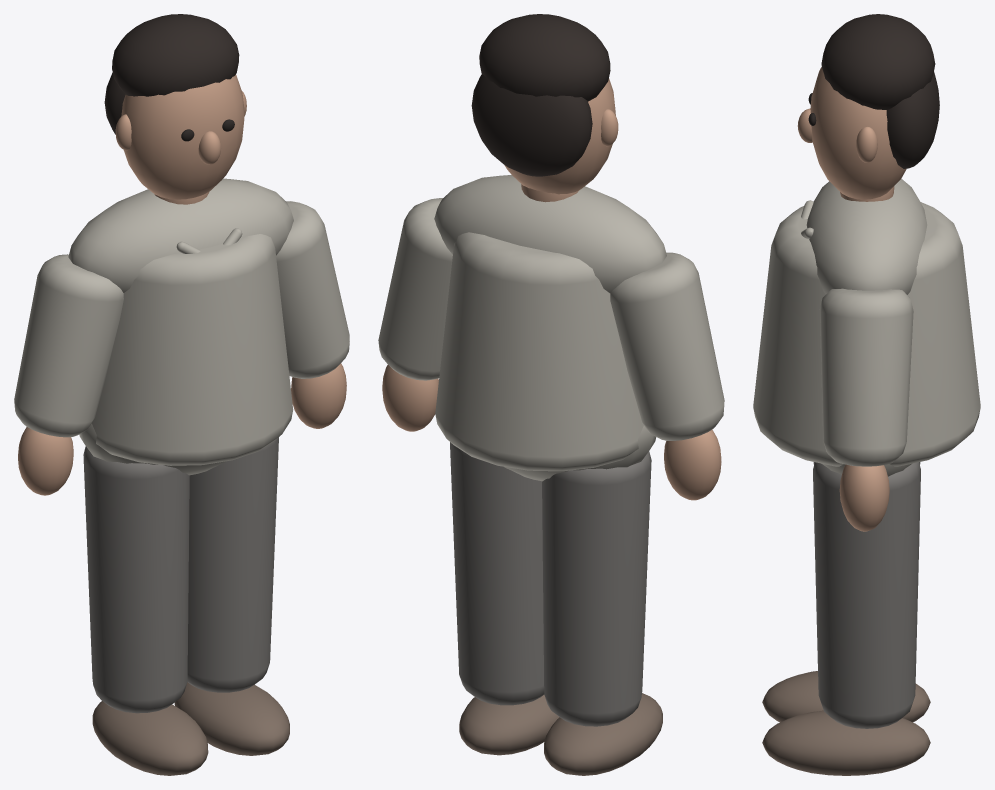
File: tre-em-di-chua.glb
3 views of the same model, side by side, from view 1: azimuth 30°, elevation 25°; view 2: azimuth 150°, elevation 25°; view 3: azimuth 270°, elevation 25° (orthographic). The views are drawn at different scales.
Visible parts, largest first — view 1: Tre_em_than_ao, Tre_em_ong_quan, Tre_em_ong_quan.001, Tre_em_tay_ao, Tre_em_vai, Tre_em_dau, Tre_em_tay_ao.001, Tre_em_toc, Tre_em_dep, Tre_em_dep.001, Tre_em_ban_tay, Tre_em_ban_tay.001 (+3 smaller); view 2: Tre_em_than_ao, Tre_em_ong_quan, Tre_em_ong_quan.001, Tre_em_tay_ao, Tre_em_vai, Tre_em_tay_ao.001, Tre_em_toc, Tre_em_toc_sau, Tre_em_dep, Tre_em_dep.001, Tre_em_ban_tay, Tre_em_dau (+2 smaller); view 3: Tre_em_than_ao, Tre_em_ong_quan.001, Tre_em_tay_ao.001, Tre_em_vai, Tre_em_toc, Tre_em_dep.001, Tre_em_dau, Tre_em_toc_sau, Tre_em_ban_tay.001, Tre_em_dep, Tre_em_tai.001.
Part boxes in pixels (x1,y1,x2,y2): Tre_em_than_ao: [92, 234, 293, 465]; Tre_em_ong_quan: [83, 446, 189, 713]; Tre_em_ong_quan.001: [187, 437, 278, 692]; Tre_em_tay_ao: [14, 254, 123, 437]; Tre_em_vai: [68, 178, 293, 292]; Tre_em_dau: [121, 74, 244, 199]; Tre_em_tay_ao.001: [276, 201, 349, 378]; Tre_em_toc: [112, 14, 239, 96]; Tre_em_dep: [92, 701, 208, 775]; Tre_em_dep.001: [174, 682, 289, 755]; Tre_em_ban_tay: [18, 427, 73, 495]; Tre_em_ban_tay.001: [291, 363, 346, 428]; Tre_em_than_ao: [435, 232, 643, 471]; Tre_em_ong_quan: [542, 451, 651, 726]; Tre_em_ong_quan.001: [450, 442, 544, 705]; Tre_em_tay_ao: [610, 252, 724, 440]; Tre_em_vai: [434, 175, 666, 292]; Tre_em_tay_ao.001: [378, 198, 452, 380]; Tre_em_toc: [479, 14, 610, 101]; Tre_em_toc_sau: [471, 74, 592, 176]; Tre_em_dep: [544, 693, 662, 775]; Tre_em_dep.001: [459, 695, 559, 755]; Tre_em_ban_tay: [664, 429, 721, 500]; Tre_em_dau: [504, 78, 615, 194]; Tre_em_than_ao: [753, 202, 980, 466]; Tre_em_ong_quan.001: [813, 462, 920, 728]; Tre_em_tay_ao.001: [819, 288, 913, 466]; Tre_em_vai: [806, 179, 927, 294]; Tre_em_toc: [821, 14, 935, 109]; Tre_em_dep.001: [762, 710, 930, 775]; Tre_em_dau: [810, 66, 906, 199]; Tre_em_toc_sau: [886, 72, 939, 168]; Tre_em_ban_tay.001: [839, 464, 889, 531]; Tre_em_dep: [762, 671, 930, 722]; Tre_em_tai.001: [856, 127, 877, 162].
Bounding box in the file's own units: 0.5825 × 1.23 × 0.3499.
